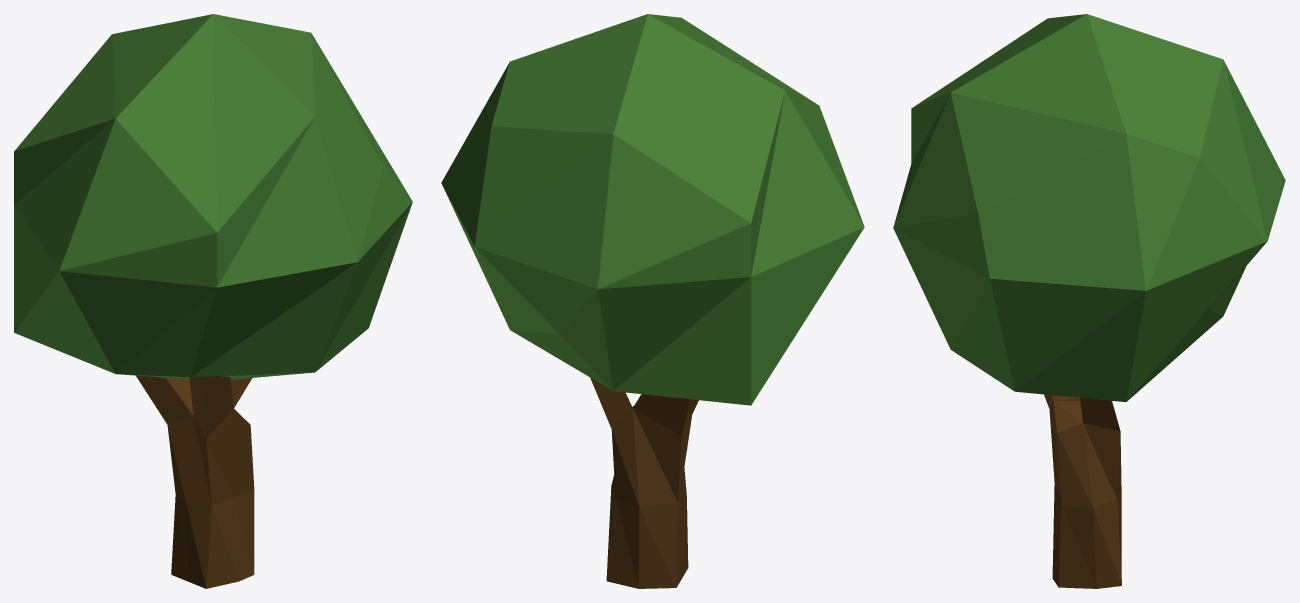
3 views of the same model, side by side, from view 1: azimuth 30°, elevation 25°; view 2: azimuth 150°, elevation 25°; view 3: azimuth 270°, elevation 25° (orthographic).
Parts seen in each view (by area): view 1: Laub.001, Stamm.001; view 2: Laub.001, Stamm.001; view 3: Laub.001, Stamm.001.
Part boxes in pixels (x1,y1,x2,y2): Laub.001: [14, 14, 412, 379]; Stamm.001: [136, 375, 254, 588]; Laub.001: [441, 14, 864, 405]; Stamm.001: [590, 377, 698, 588]; Laub.001: [893, 14, 1285, 401]; Stamm.001: [1044, 394, 1121, 588].
Size of the model in its own units: 2.96 by 4.36 by 2.77.
